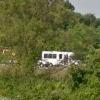Tree: (72, 52, 100, 100)
